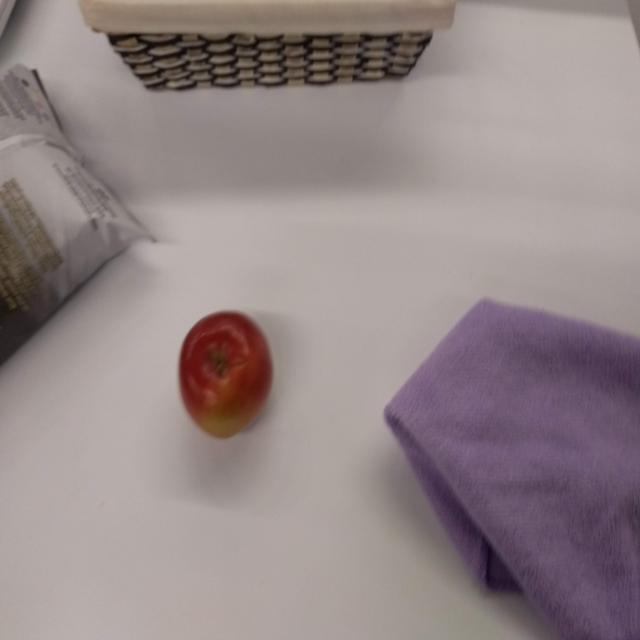apple: (177, 302, 280, 446)
